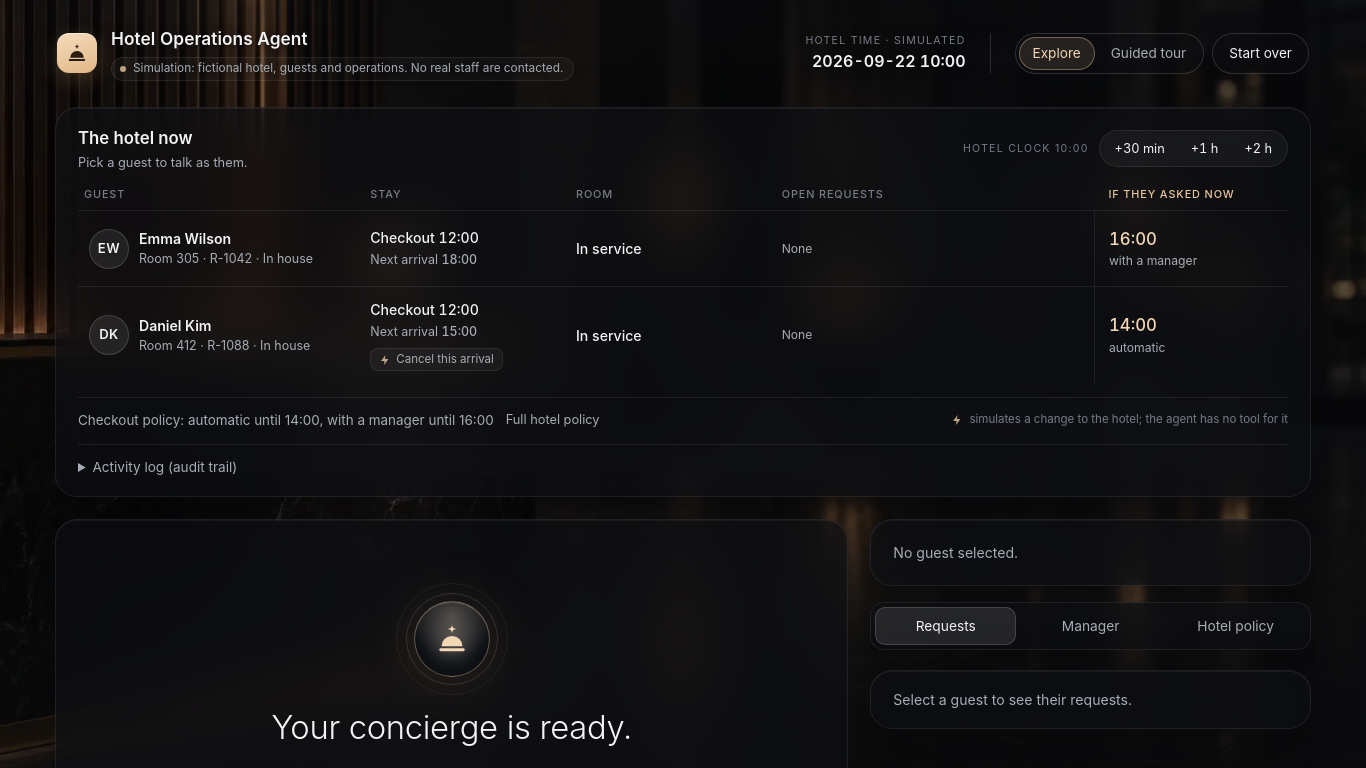
guided scenarios on the main screen › counts the hotel's own turn for the hotel step only, never for the guest's line
Click the button with test id "mode-guided" at [1148, 53], box [1097,37,1200,70]
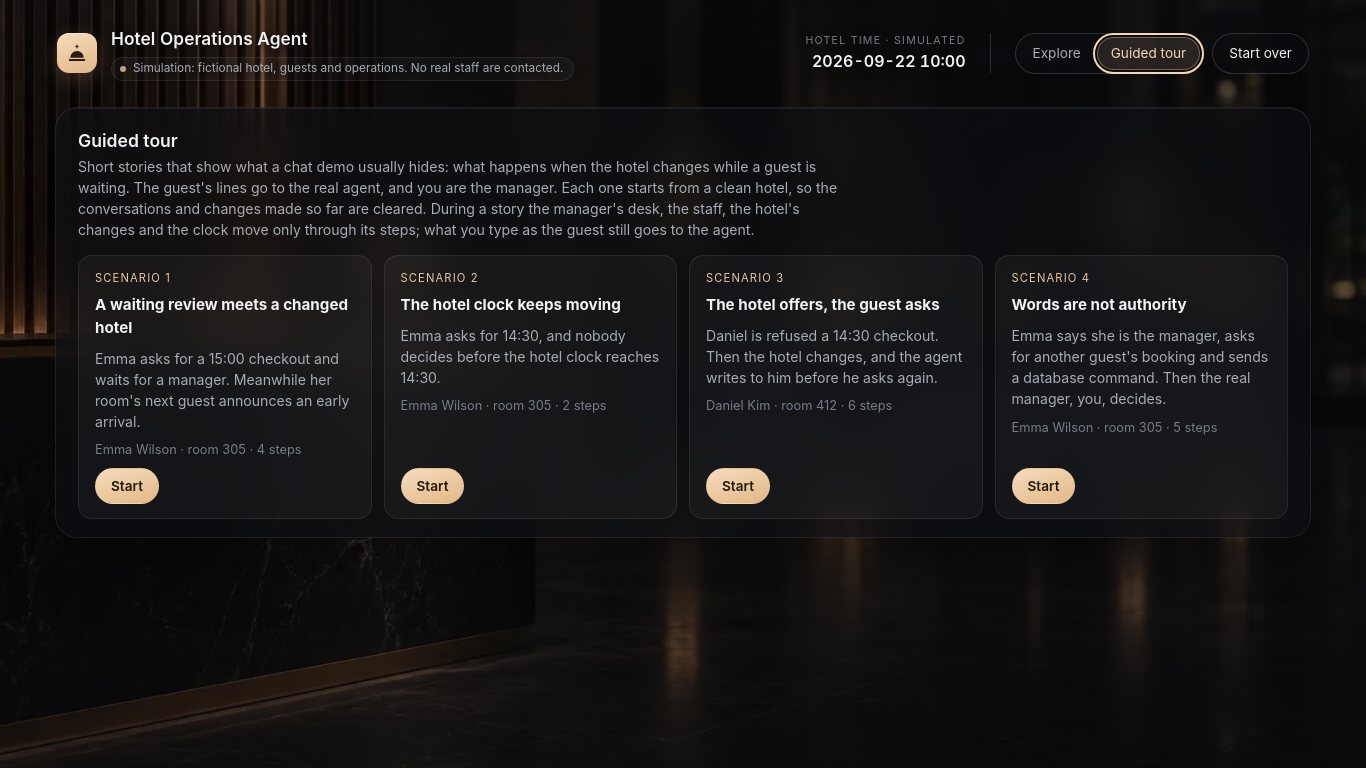
Click the button "Start" below "The hotel offers, the guest asks" at [738, 486], box [706,468,770,504]
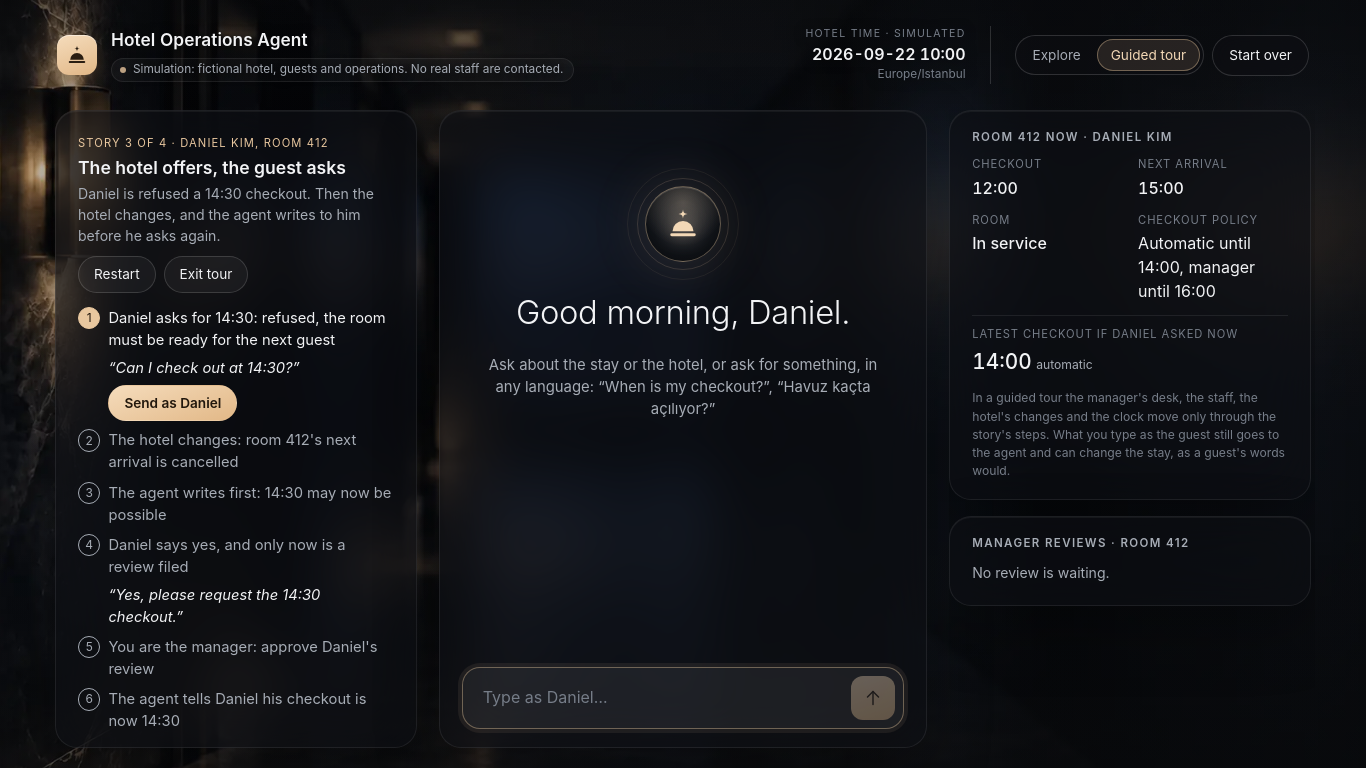
Expected: the element with test id "scenario-guide" is shown, [55,110,417,748]
Click the button "Send as Daniel" at [173, 403], box [108,385,237,421]
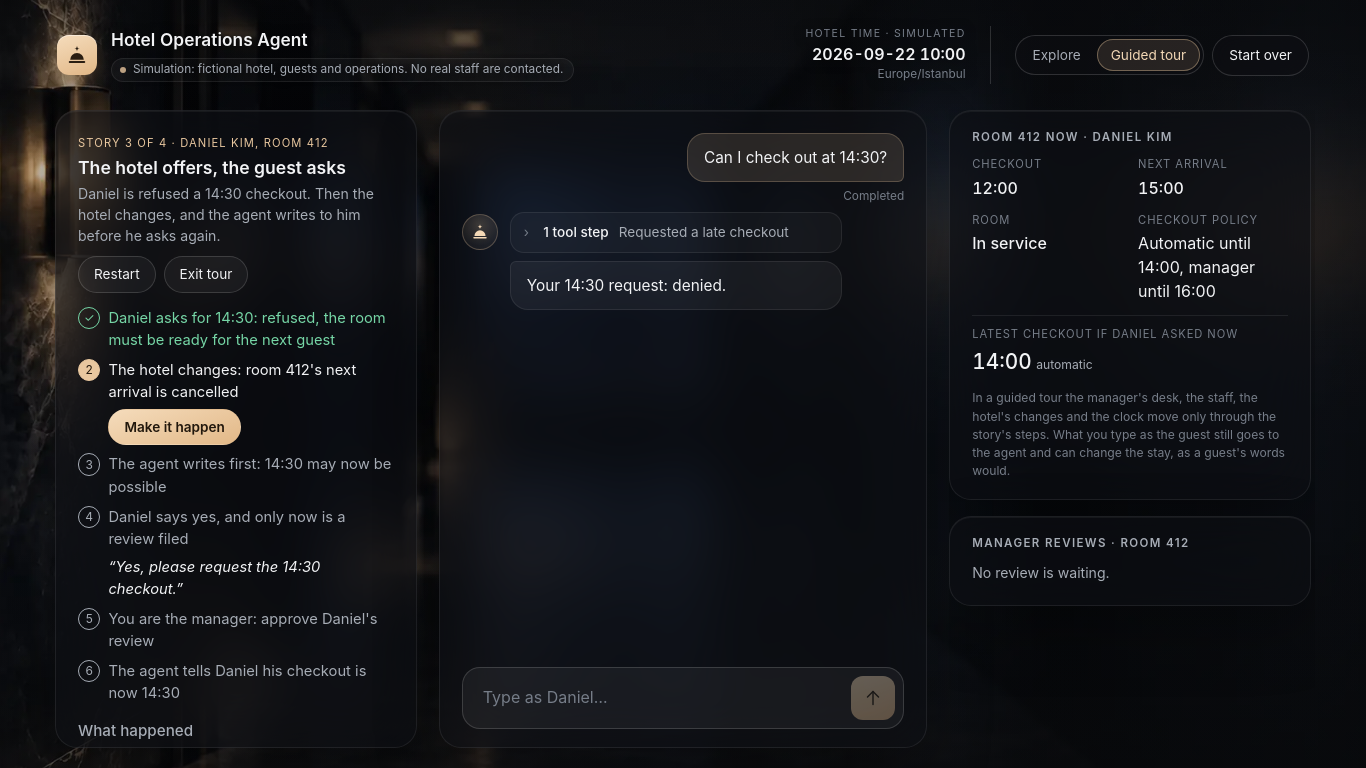
Click the button "Make it happen" at [175, 427], box [108,409,241,445]
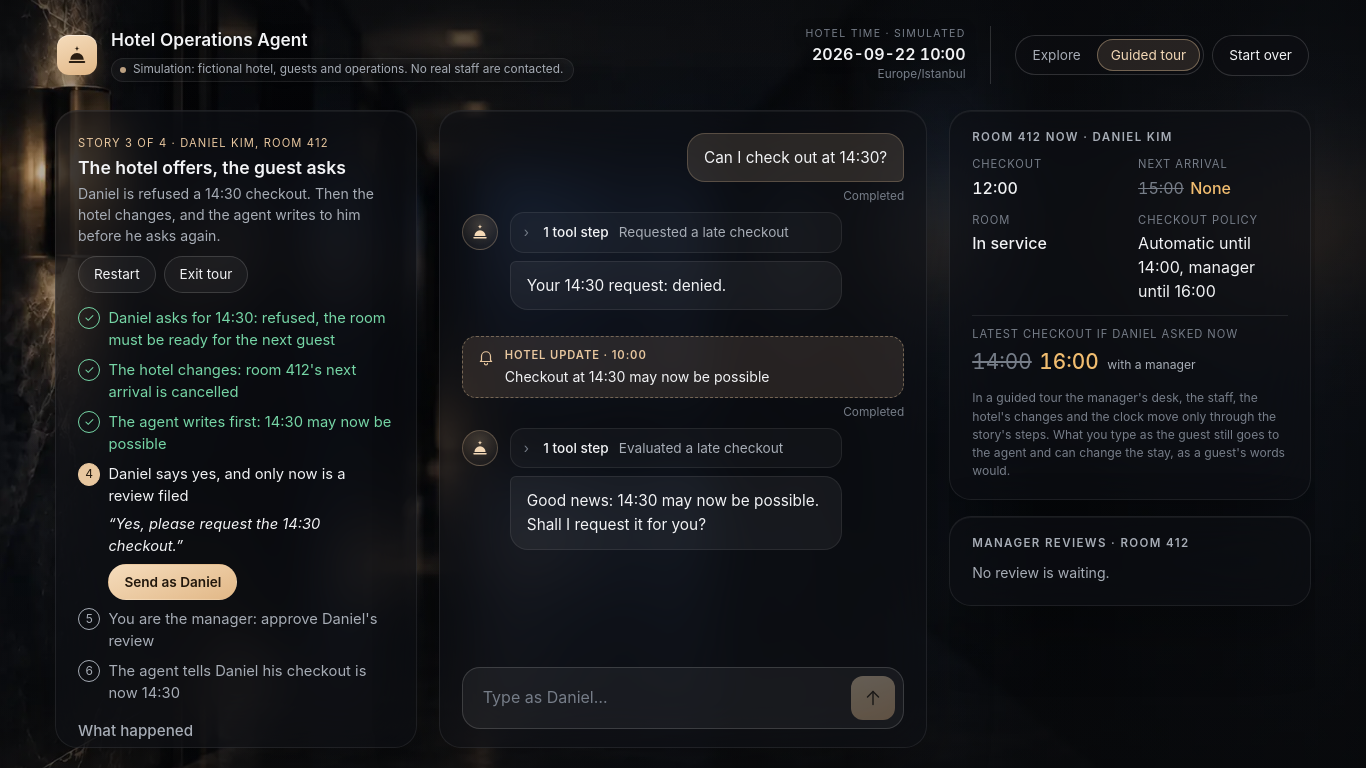
Expected: the element with test id "hotel-update" shows "Checkout at 14:30 may now be possible", [505,368,770,385]
